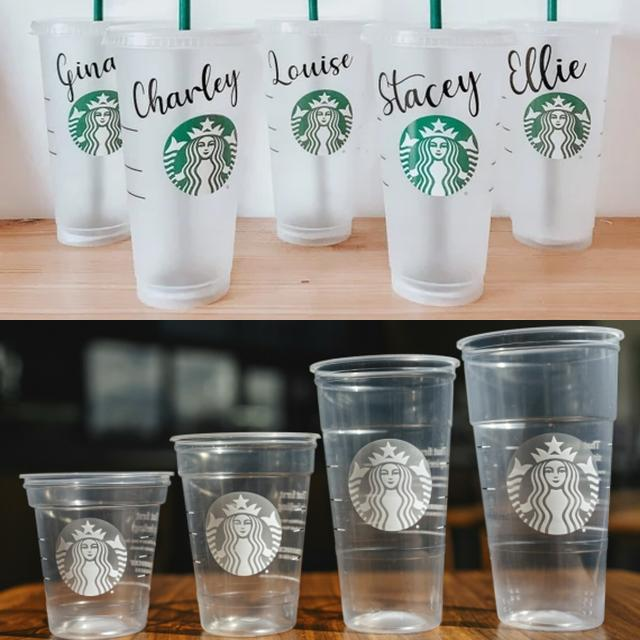Single-Use-Plastic: (458, 326, 624, 631), (104, 25, 261, 308), (366, 26, 515, 306), (310, 355, 460, 632), (171, 432, 319, 636), (501, 22, 612, 249), (21, 472, 170, 639), (259, 20, 369, 245), (31, 19, 130, 246)
